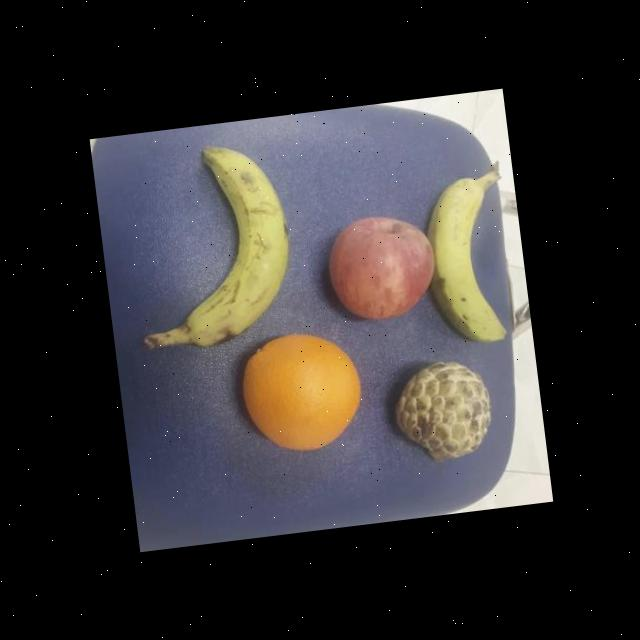Sakya fruit: (385, 351, 498, 466)
apple: (321, 206, 442, 327)
banana: (160, 136, 303, 352), (416, 170, 515, 358)
orange: (234, 324, 368, 461)
